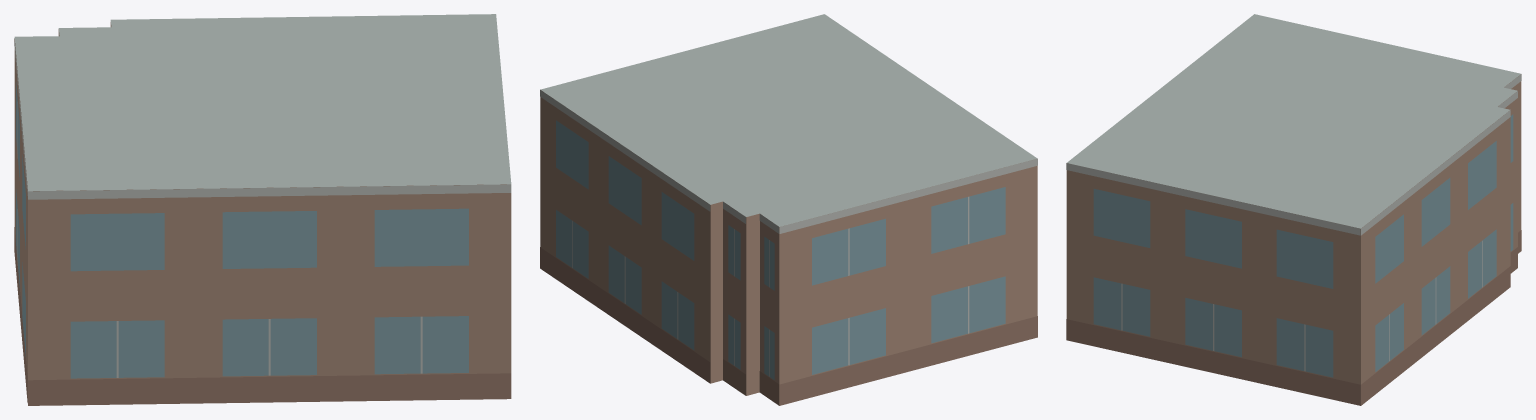
Rendered from survey-upis-32805322.glb.
3 views of the same model, side by side, from view 1: azimuth 30°, elevation 25°; view 2: azimuth 150°, elevation 25°; view 3: azimuth 270°, elevation 25° (orthographic). The views are drawn at different scales.
Visible parts, largest first — view 1: survey-upis-32805322.tmp; view 2: survey-upis-32805322.tmp; view 3: survey-upis-32805322.tmp.
Part boxes in pixels (x1=…): survey-upis-32805322.tmp: x1=14, y1=14, x2=511, y2=405; survey-upis-32805322.tmp: x1=540, y1=14, x2=1037, y2=405; survey-upis-32805322.tmp: x1=1066, y1=14, x2=1521, y2=405.
Bounding box in the file's own units: 15.85 × 6.1 × 14.2.
